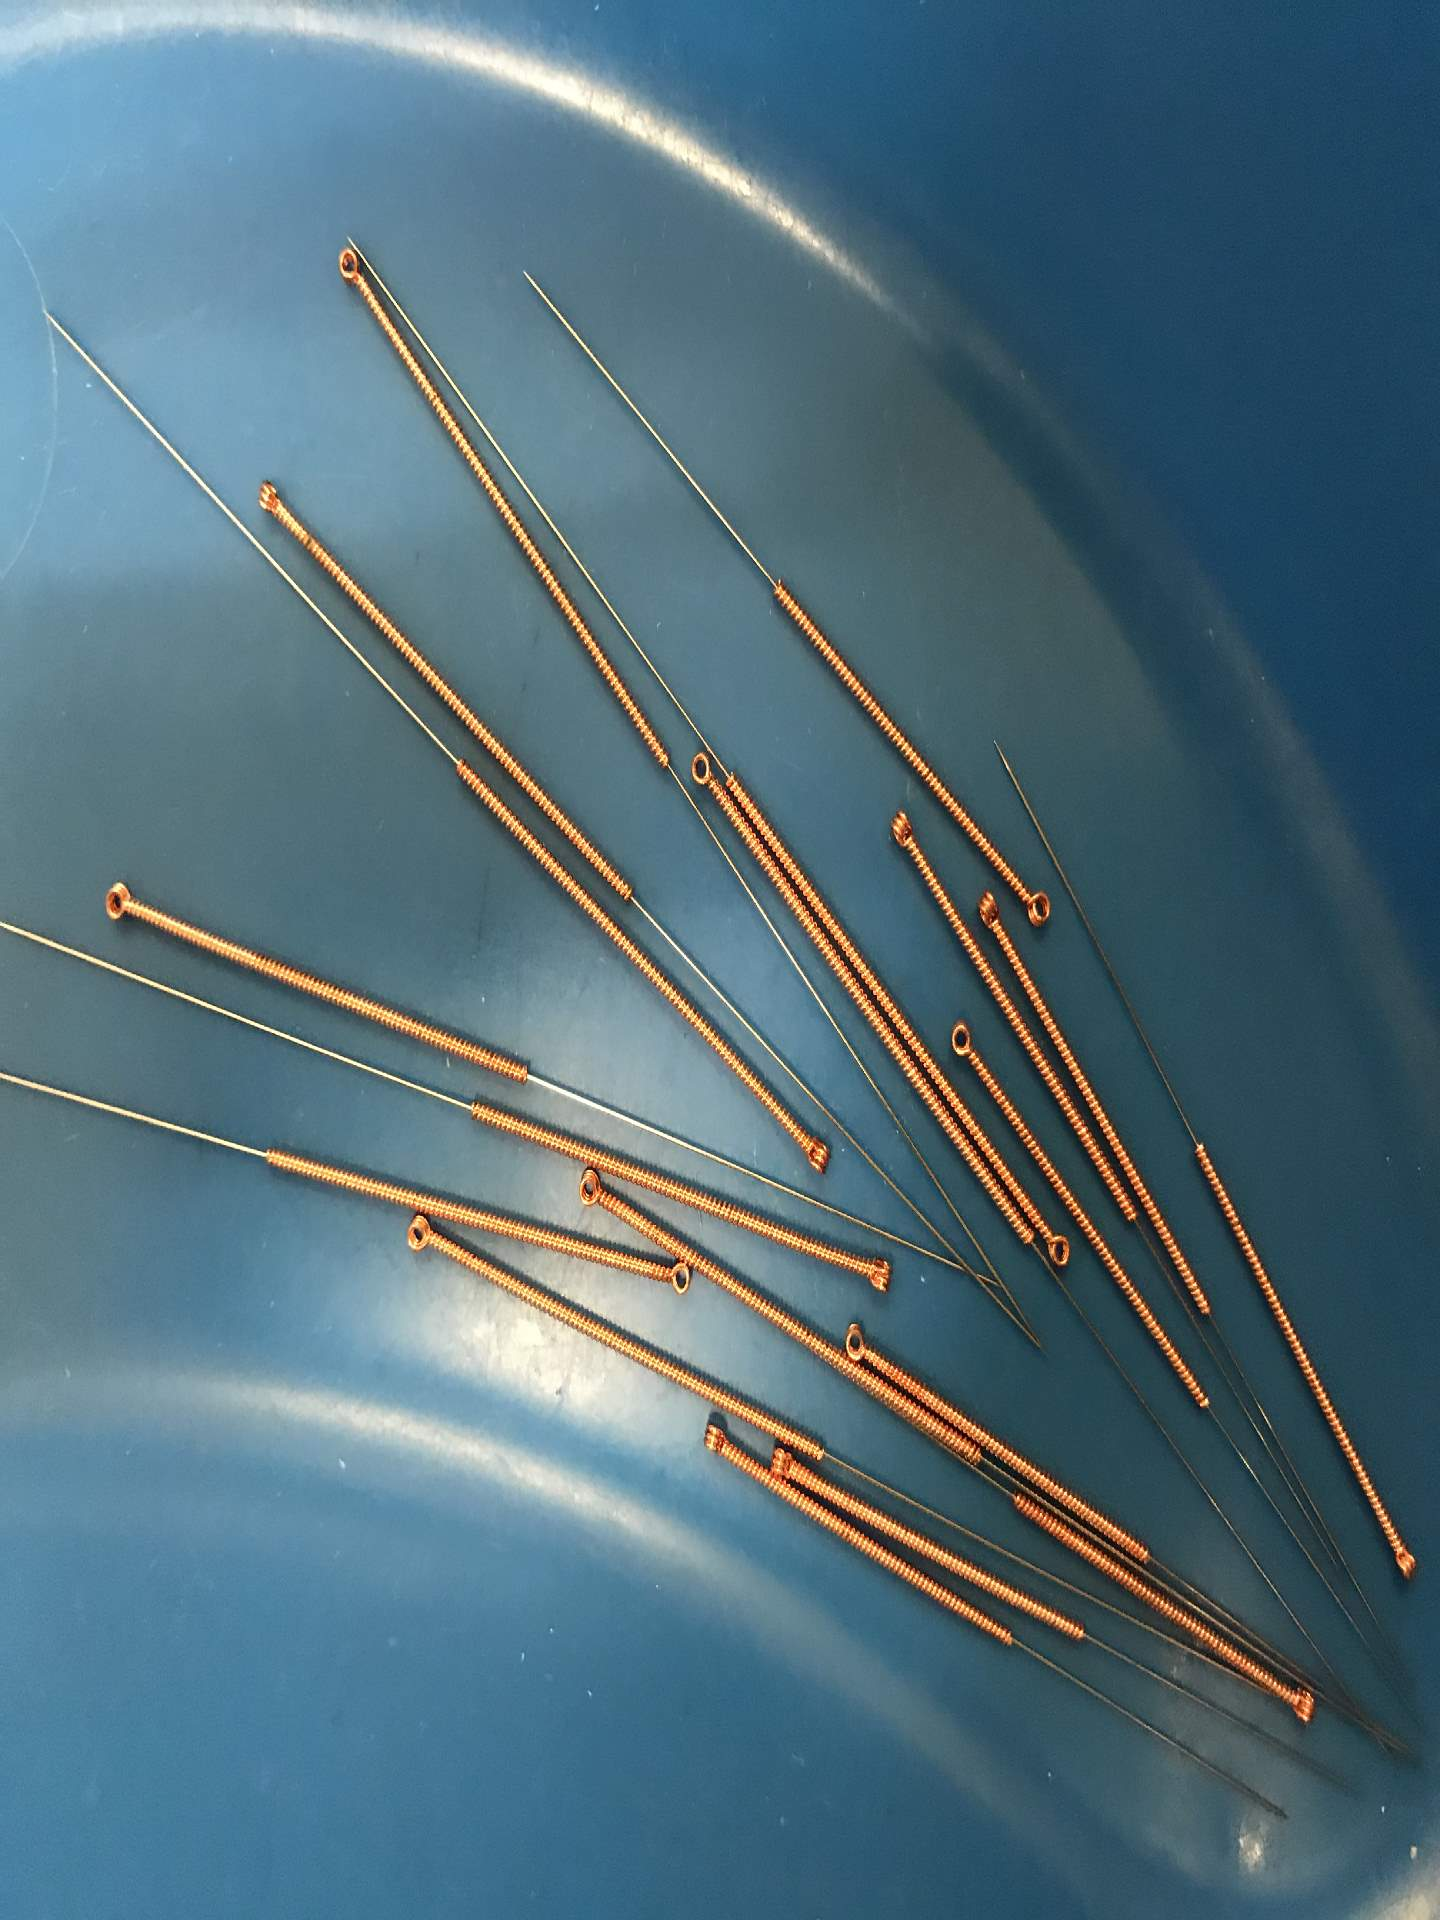needle: (91, 872, 147, 931), (850, 1243, 903, 1302), (327, 236, 372, 299), (793, 1126, 839, 1181), (880, 801, 923, 860), (247, 472, 290, 528), (1016, 881, 1062, 934), (1277, 1677, 1322, 1728), (942, 1014, 985, 1069), (1384, 1534, 1423, 1590), (566, 1164, 611, 1212), (399, 1209, 443, 1256), (684, 747, 722, 800), (1038, 1228, 1077, 1276), (650, 1259, 694, 1299), (970, 886, 1004, 934), (839, 1320, 874, 1364), (697, 1420, 734, 1460), (768, 1444, 802, 1482)
